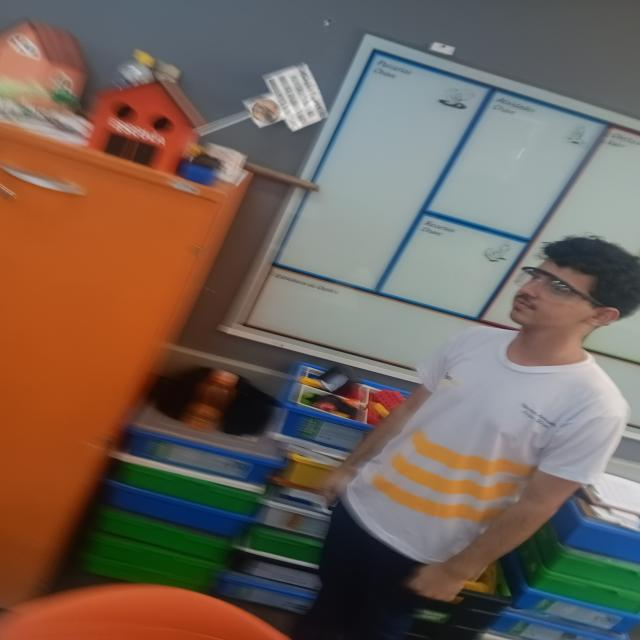oculos-epi: (515, 267, 604, 307)
